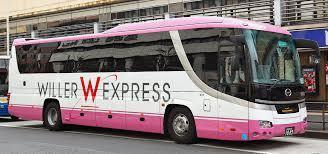bus: (13, 19, 300, 142)
